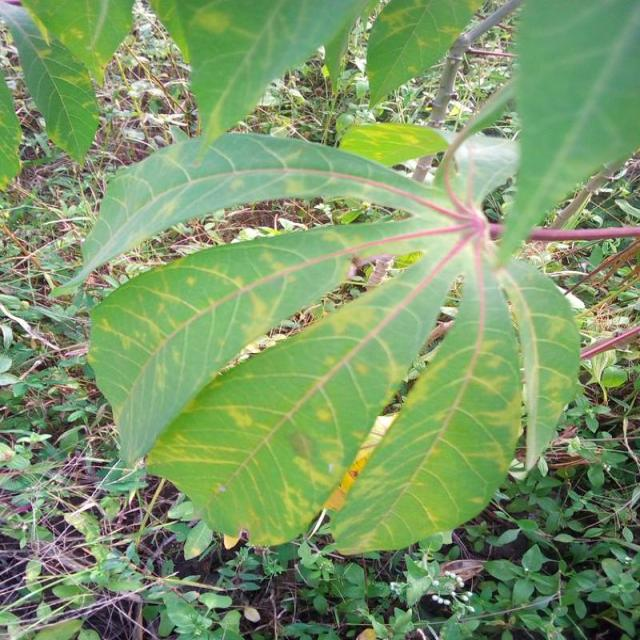cassava leaf: (80, 129, 576, 555), (326, 260, 523, 556)
